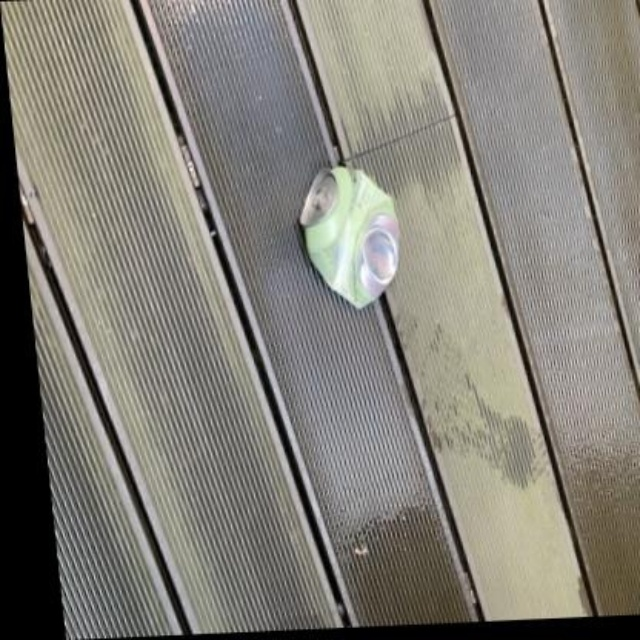trash: (300, 166, 397, 306)
